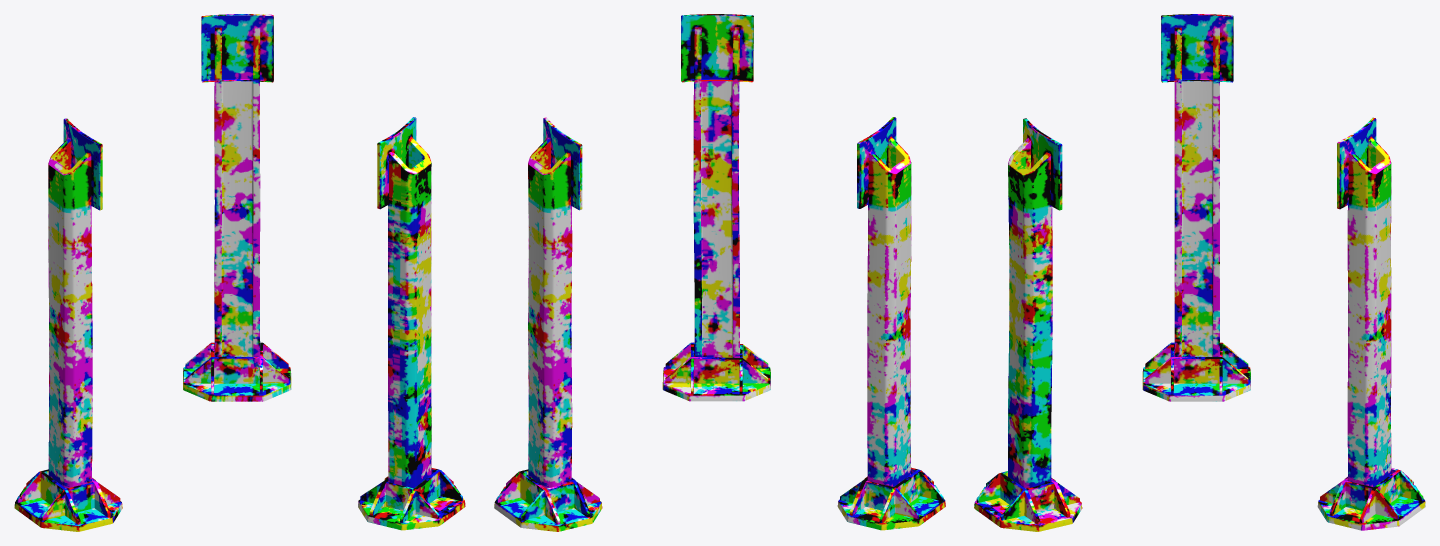
File: sm_Container_Base_01_02.fbx
The picture shows the model from 3 angles, left to right: view 1: azimuth 30°, elevation 25°; view 2: azimuth 150°, elevation 25°; view 3: azimuth 270°, elevation 25°; orthographic projection.
Visible parts, largest first — view 1: sm_Container_Base_01_02_LOD0; view 2: sm_Container_Base_01_02_LOD0; view 3: sm_Container_Base_01_02_LOD0.
Part boxes in pixels (x1,y1,x2,y2): sm_Container_Base_01_02_LOD0: [14, 14, 465, 531]; sm_Container_Base_01_02_LOD0: [494, 14, 945, 531]; sm_Container_Base_01_02_LOD0: [974, 14, 1425, 531].
Bounding box in the file's own units: 166 × 186 × 170.
